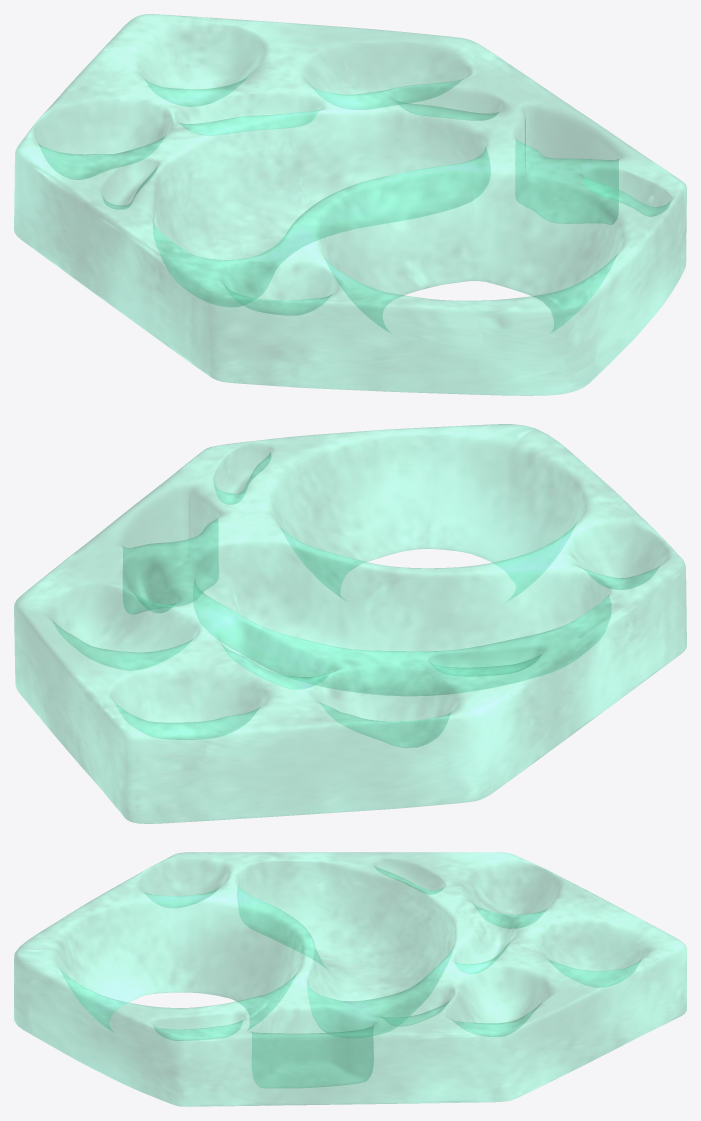
File: cytoplasm.glb
The picture shows the model from 3 angles, top to bottom: view 1: azimuth 30°, elevation 25°; view 2: azimuth 150°, elevation 25°; view 3: azimuth 270°, elevation 25°; orthographic projection. The views are drawn at different scales.
Parts seen in each view (by area): view 1: cytoplasm; view 2: cytoplasm; view 3: cytoplasm.
Boxes of the visible parts, x1,y1,x2,y2 form: cytoplasm: [14, 14, 686, 395]; cytoplasm: [14, 424, 686, 823]; cytoplasm: [14, 852, 686, 1106].
Bounding box in the file's own units: 5.11 × 0.8953 × 7.69.
Materials: 1 (1 with a texture image).
